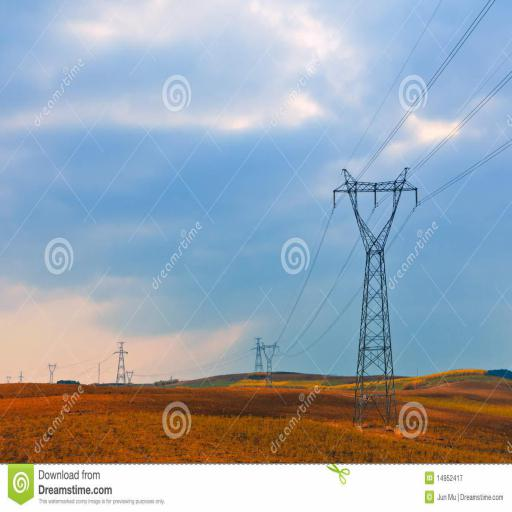ss_1: (114, 341, 129, 385), (250, 336, 267, 372), (18, 369, 24, 385)
wt_5: (329, 165, 420, 419), (260, 340, 280, 390), (48, 358, 56, 382), (126, 369, 134, 386), (5, 372, 13, 382)
